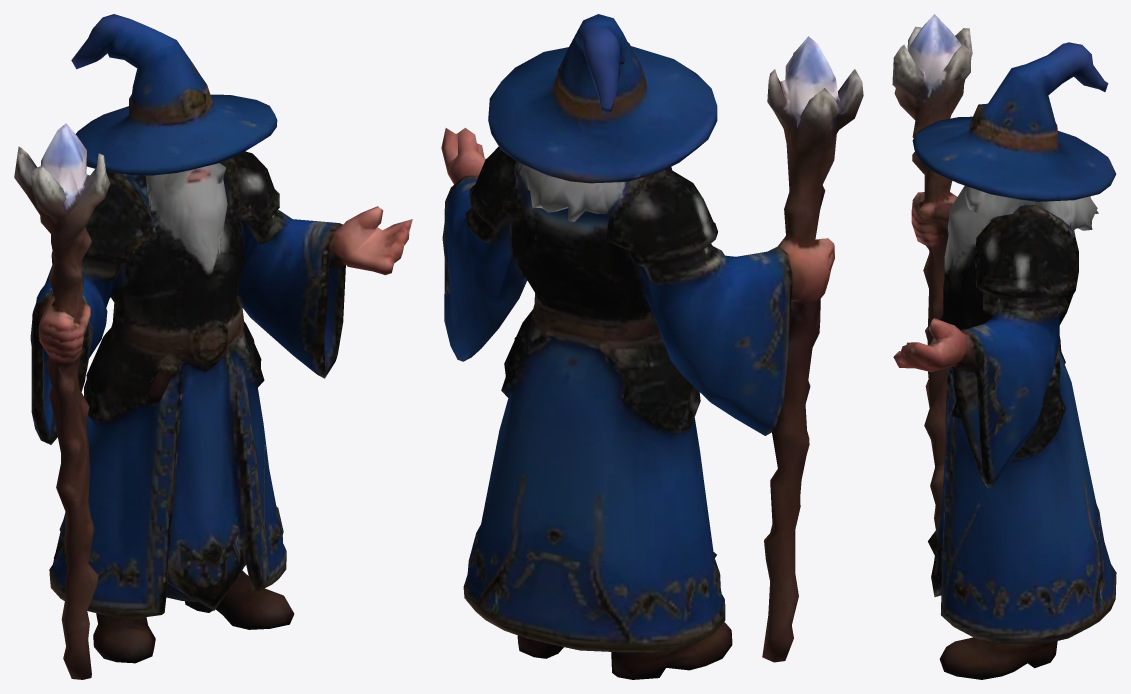
Rendered from detail_6_lo2.glb.
3 renders of one model, left to right at view 1: azimuth 30°, elevation 25°; view 2: azimuth 150°, elevation 25°; view 3: azimuth 270°, elevation 25°, orthographic. The views are drawn at different scales.
Visible parts, largest first — view 1: Mesh_0.001; view 2: Mesh_0.001; view 3: Mesh_0.001.
Part boxes in pixels (left/top/right/bottom): Mesh_0.001: left=14, top=14, right=412, bottom=679; Mesh_0.001: left=441, top=14, right=863, bottom=679; Mesh_0.001: left=892, top=14, right=1116, bottom=679.
Bounding box in the file's own units: 0.6755 × 1 × 0.3523.
1 material, 1 textured.
